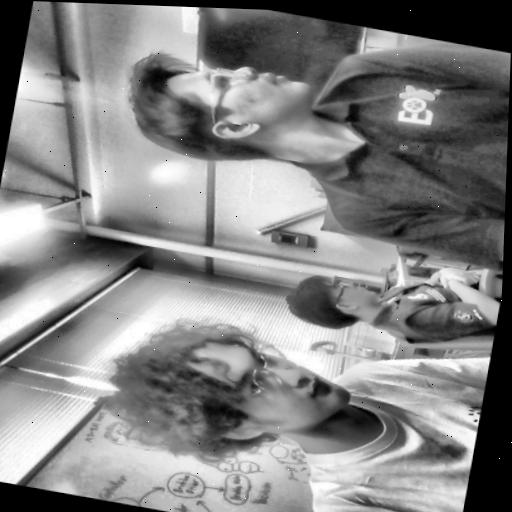Daifuku: (82, 301, 366, 486)
Not Daifuku: (118, 45, 324, 176), (277, 264, 388, 338)
